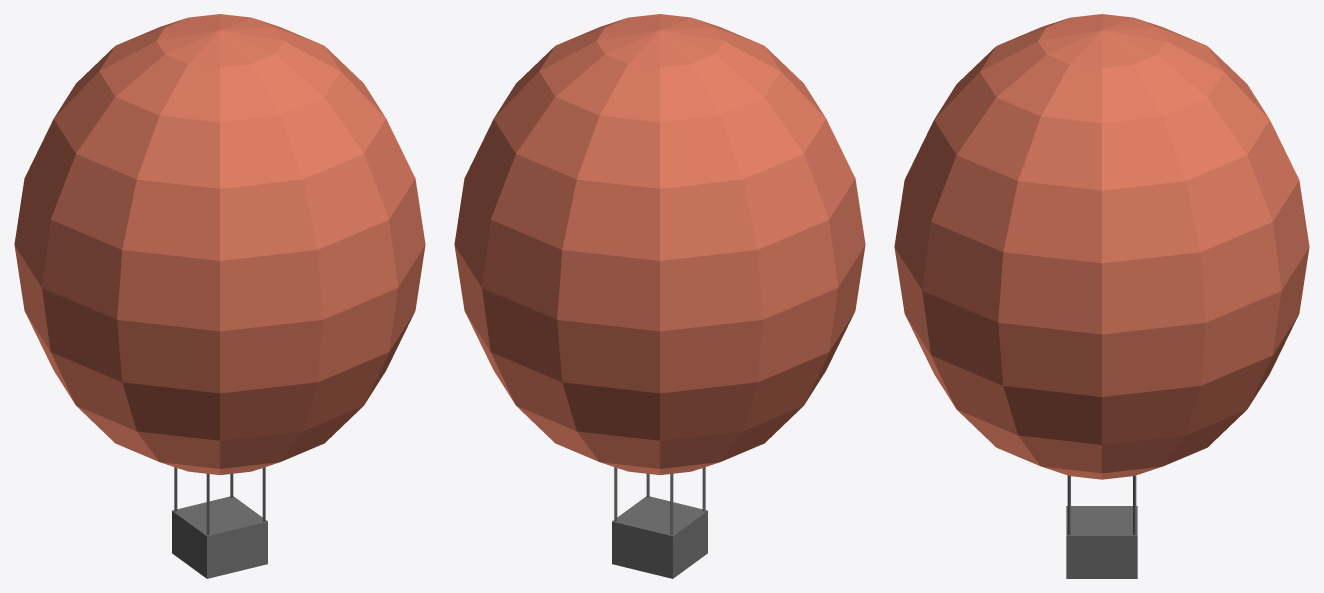
Rendered from balloon.glb.
3 renders of one model, left to right at view 1: azimuth 30°, elevation 25°; view 2: azimuth 150°, elevation 25°; view 3: azimuth 270°, elevation 25°, orthographic.
Parts seen in each view (by area): view 1: Balloon; view 2: Balloon; view 3: Balloon.
Part boxes in pixels (x1,y1,x2,y2): Balloon: (14,14,425,578); Balloon: (454,14,865,578); Balloon: (894,14,1309,578).
Bounding box in the file's own units: 14 × 19.85 × 14.
